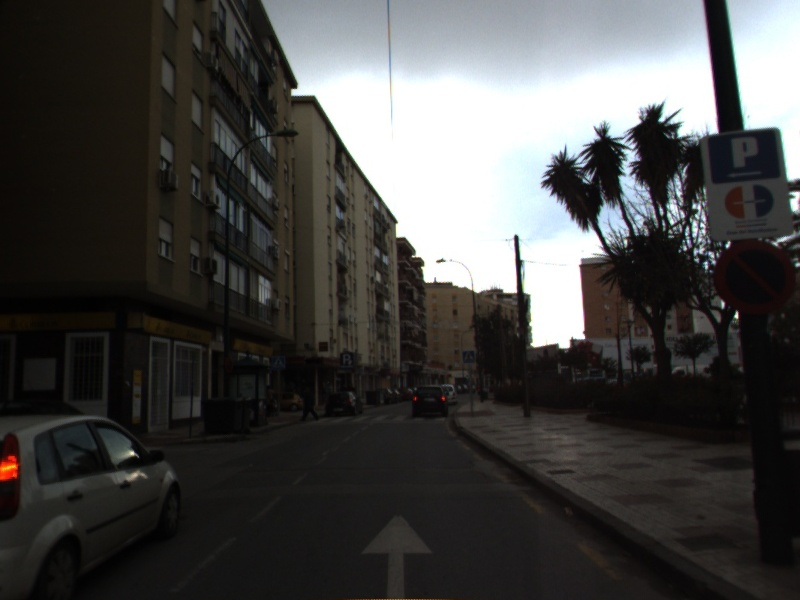STRAIGHT: (358, 511, 436, 600)
